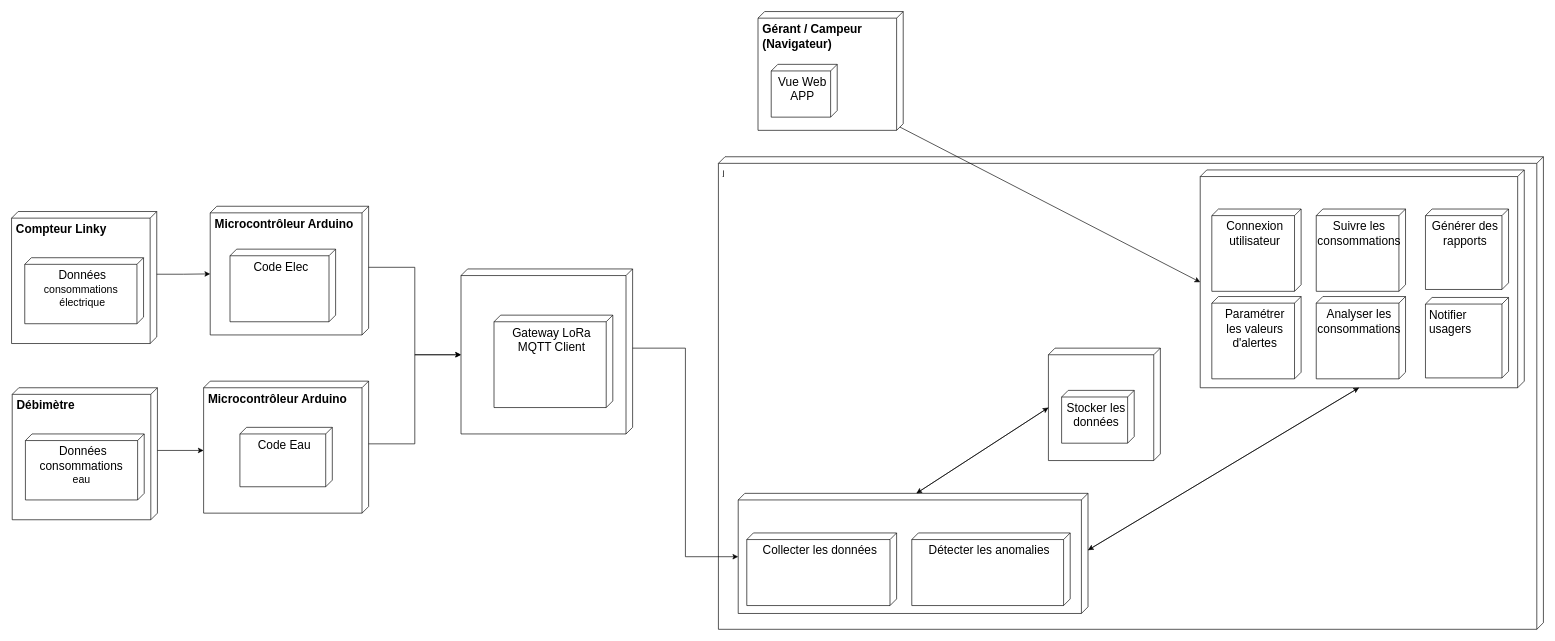
The diagram is 1555 pixels wide and 641 high, and some of its shapes have lost their labels. The shapes that lost their labels are listed below. From the top down, each one's box as (x1, y1, x2, y2) in pixels, then its label:
(1200, 169, 1524, 388): Frontend Vue.js
(460, 268, 633, 434): Passerelle LoRaWAN
(1048, 347, 1160, 461): Base de données
(738, 493, 1088, 613): Backend Flask API
